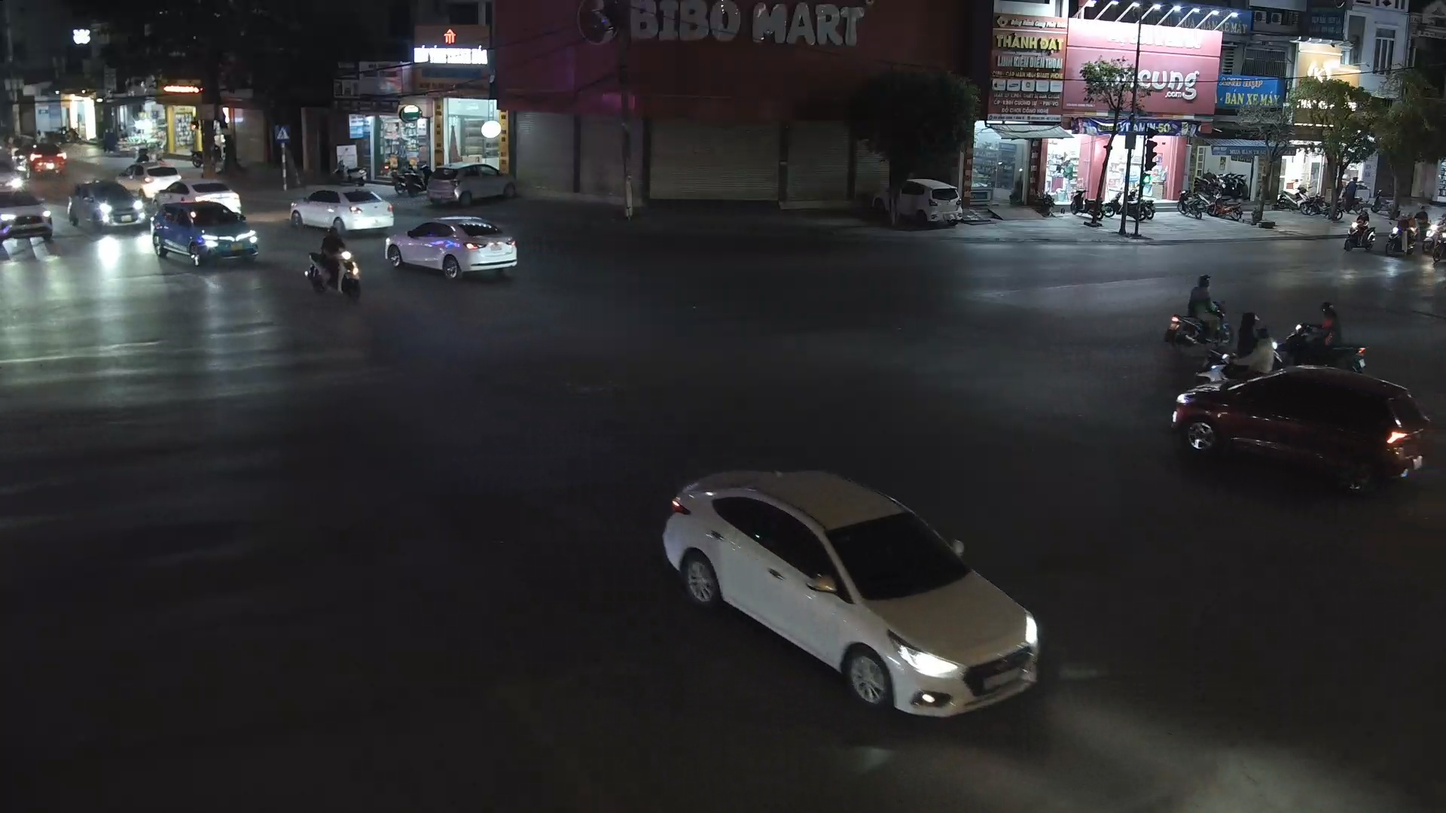car: (657, 469, 1048, 724), (1168, 364, 1435, 500), (151, 182, 261, 270), (385, 214, 521, 284), (290, 180, 397, 236), (68, 174, 150, 235), (0, 182, 57, 248)
motorbike: (1162, 272, 1233, 387), (1277, 300, 1367, 372), (303, 220, 366, 303)
